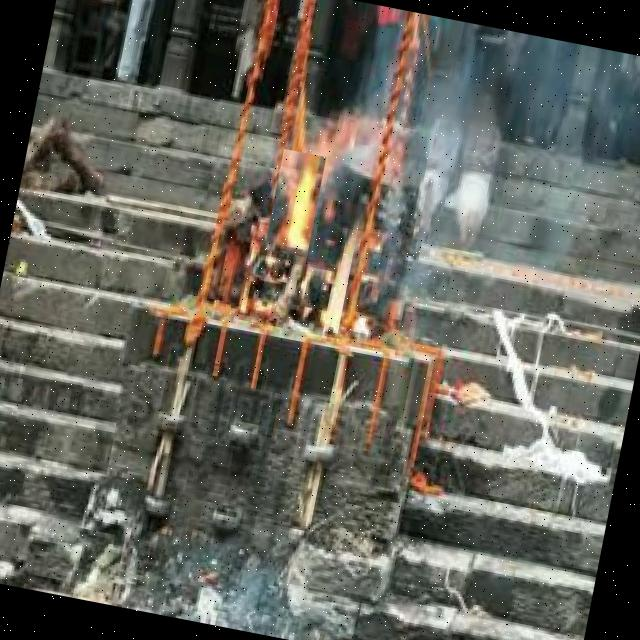fire: (264, 149, 326, 257)
